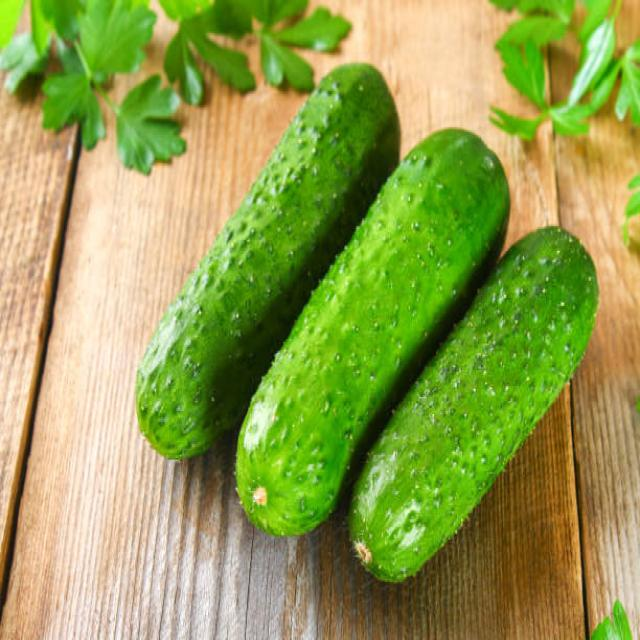cucumber: (135, 61, 598, 584)
